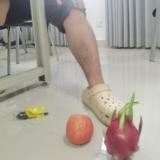apple: (66, 114, 94, 146)
pitaya: (104, 94, 143, 160)
